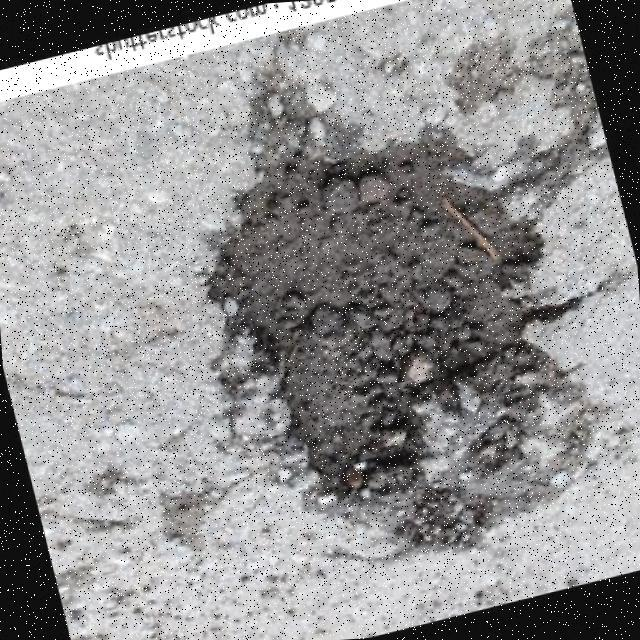Pothole: (216, 85, 540, 497)
